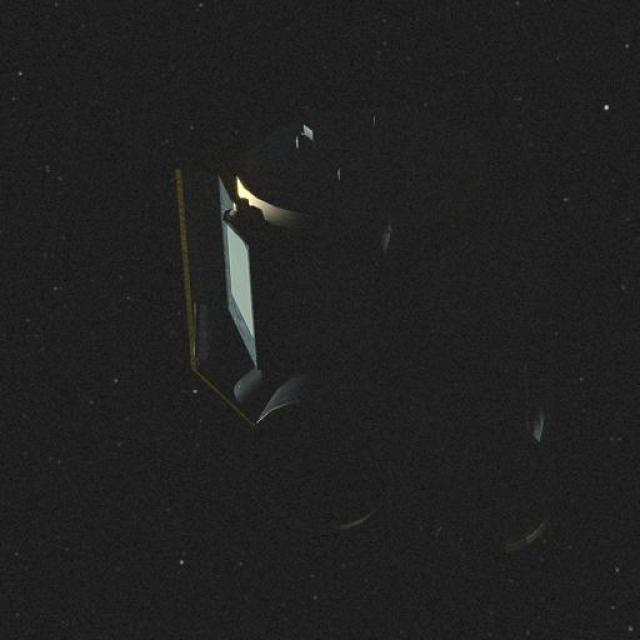cheops: (157, 108, 590, 584)
